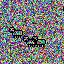sheep: (32, 36, 47, 48), (9, 27, 23, 38), (23, 36, 37, 46)
